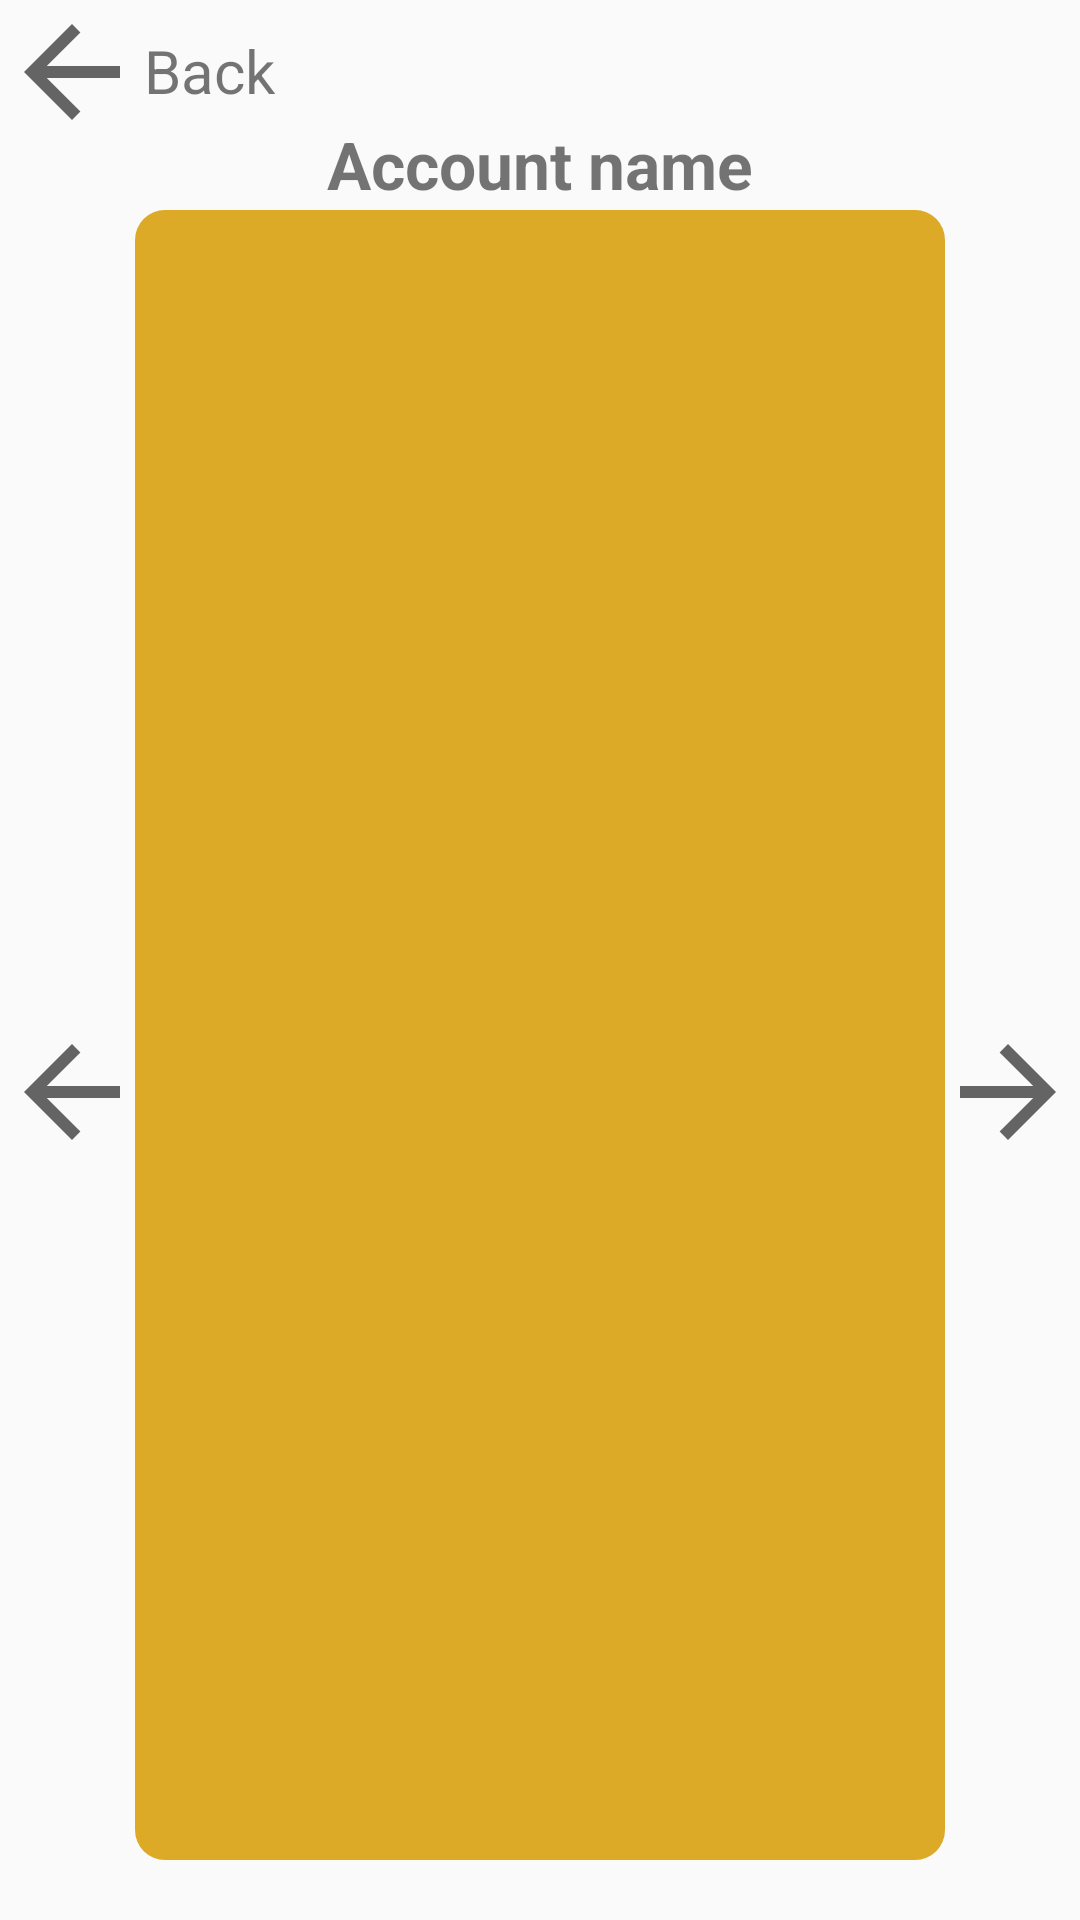

Where icons sit on this 1080px x 1920px app screen, as (x1, y1, x2, y2):
Previous image button: (24, 1044, 120, 1140)
